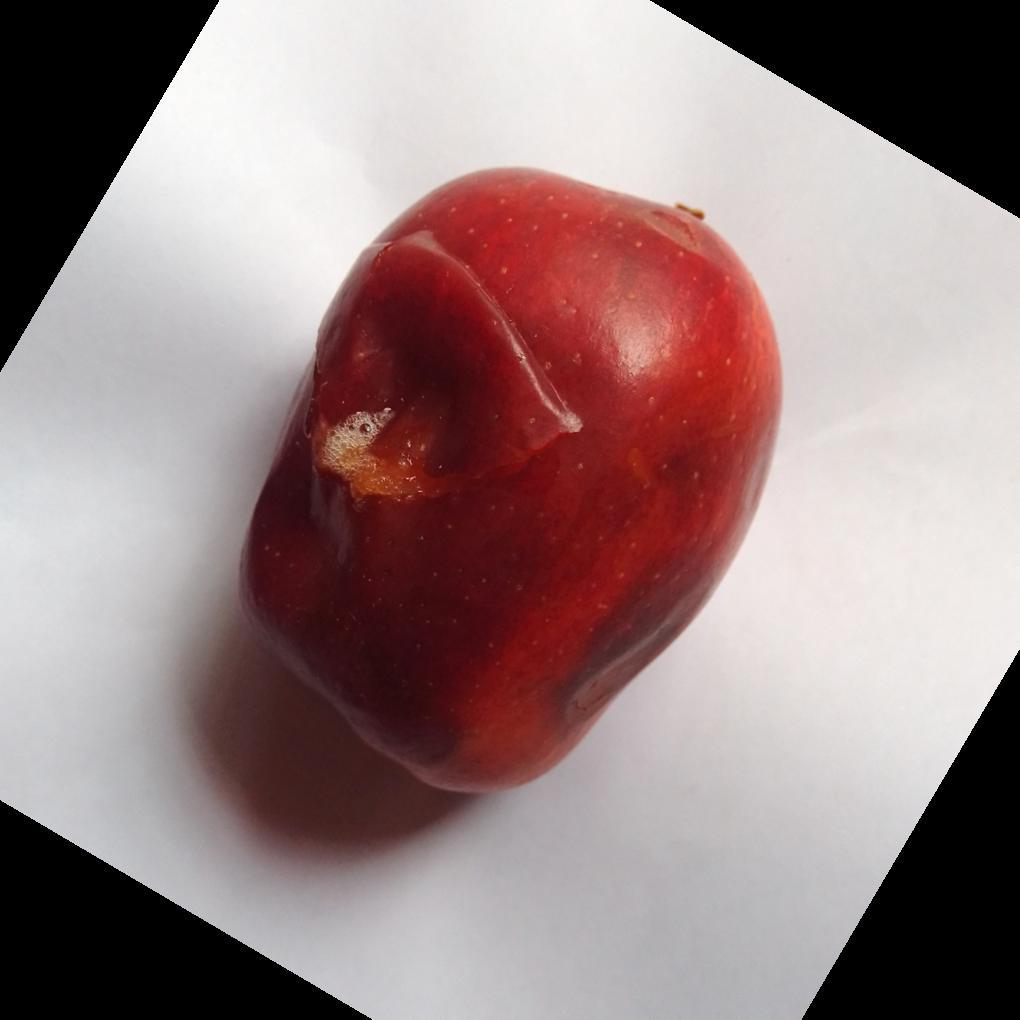FreshOrange: (238, 168, 784, 800)
